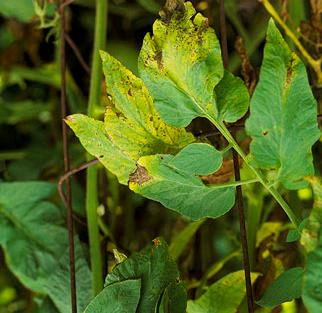Tomato Septoria leaf spot: (99, 44, 196, 171), (58, 101, 172, 199), (135, 0, 224, 123)
